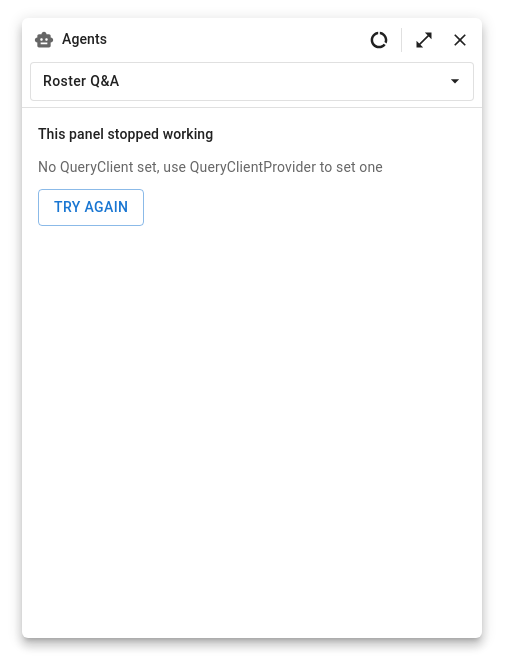
Test case: staffing proposal approval (P1T-100) › offers 'Approve shortlist' when the run named no recommendation
Click the button "Roster Q&A".
click(81, 81)  # box [30,62,474,100]
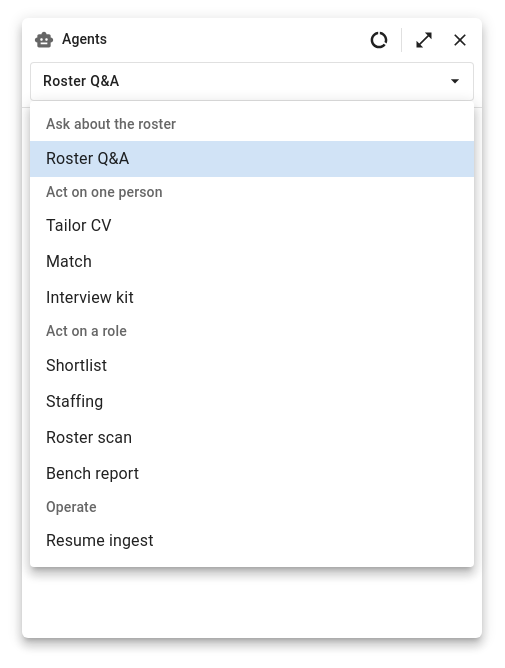
Click the menu item "Staffing".
click(75, 401)  # box [46,392,104,410]
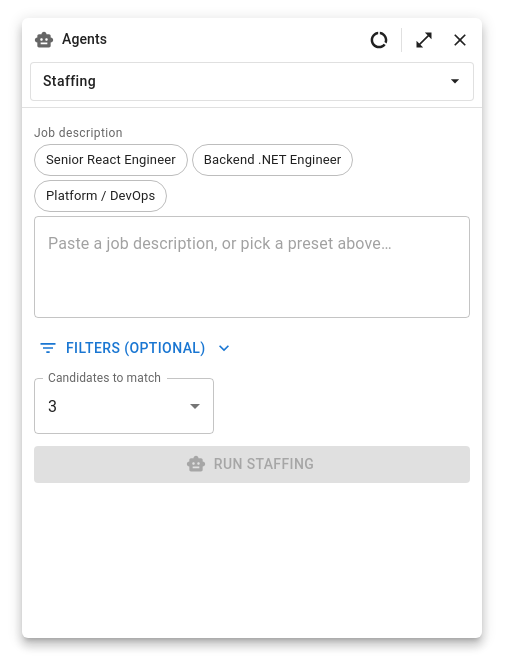
Type "Senior React engineer" into the text box with placeholder "Paste a job description, or pick a preset above…".
click(252, 266); type("Senior React engineer")  # box [48,232,456,301]
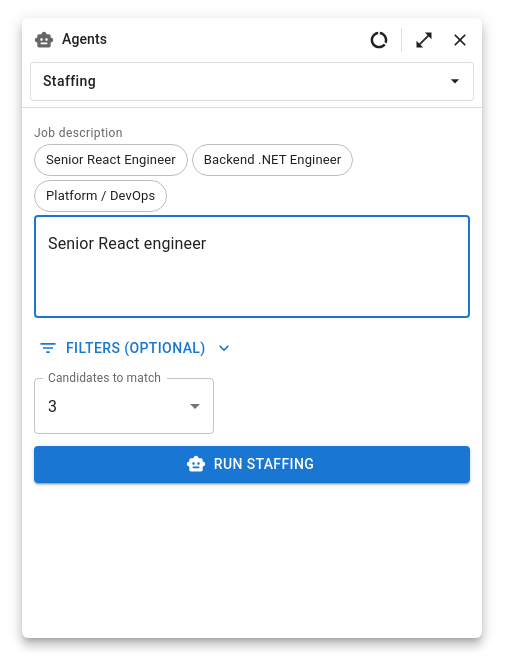
Click the button "Run staffing".
click(252, 464)  # box [34,446,470,482]
(page scrolled)
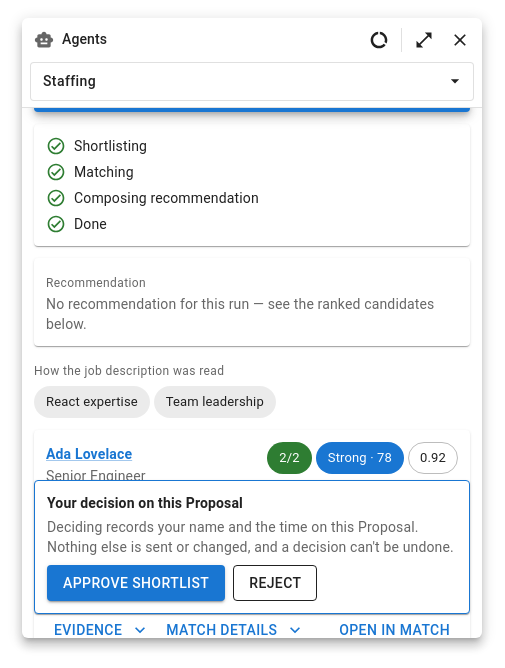
expect the element with test id "staffing-recommendation" is shown: met, box [34,258,470,346]
expect the button "Approve shortlist" is shown: met, box [47,564,225,601]
